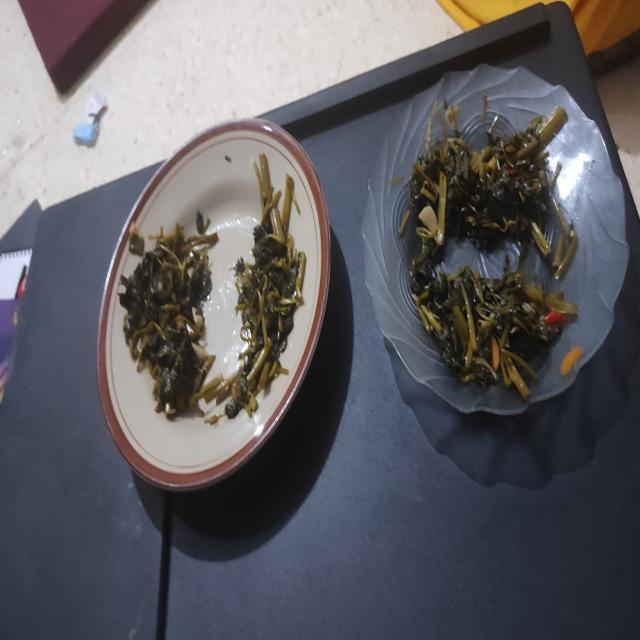tumis_kangkung: (409, 106, 567, 274), (414, 266, 576, 399), (225, 154, 306, 418), (118, 215, 218, 416)
